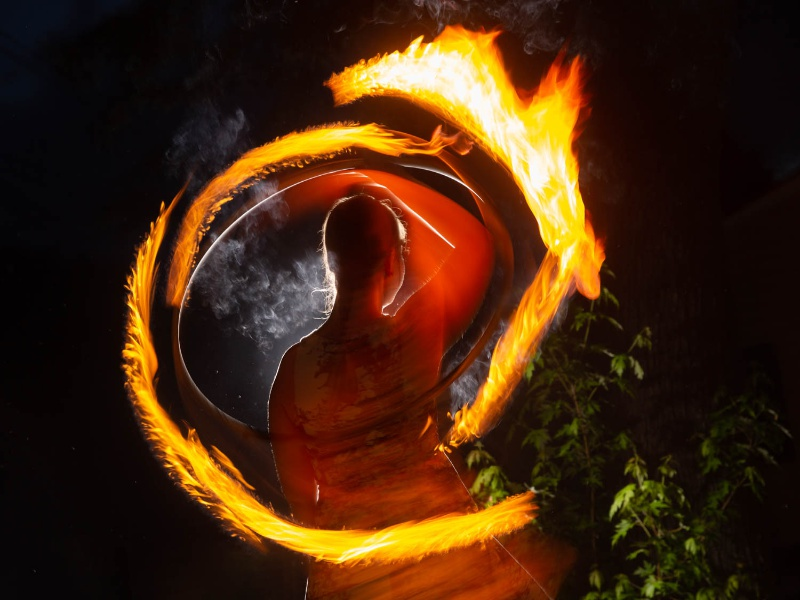fire: (331, 31, 624, 228)
